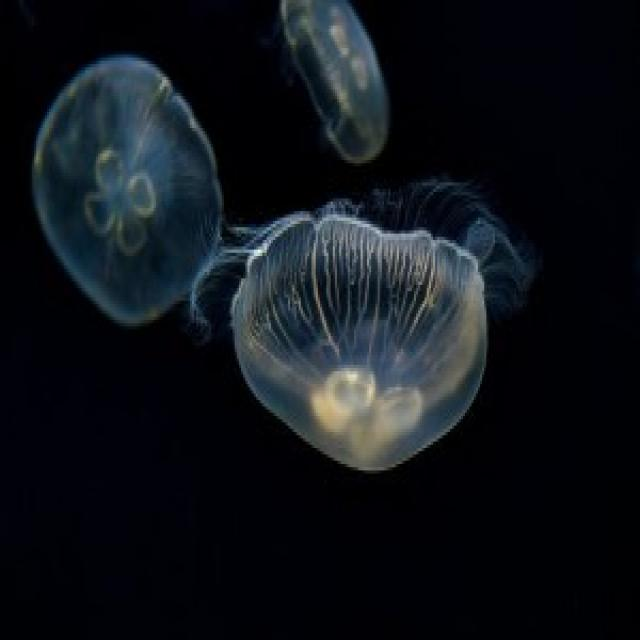Jellyfish: (230, 195, 518, 461), (29, 65, 219, 337), (261, 2, 399, 170)
